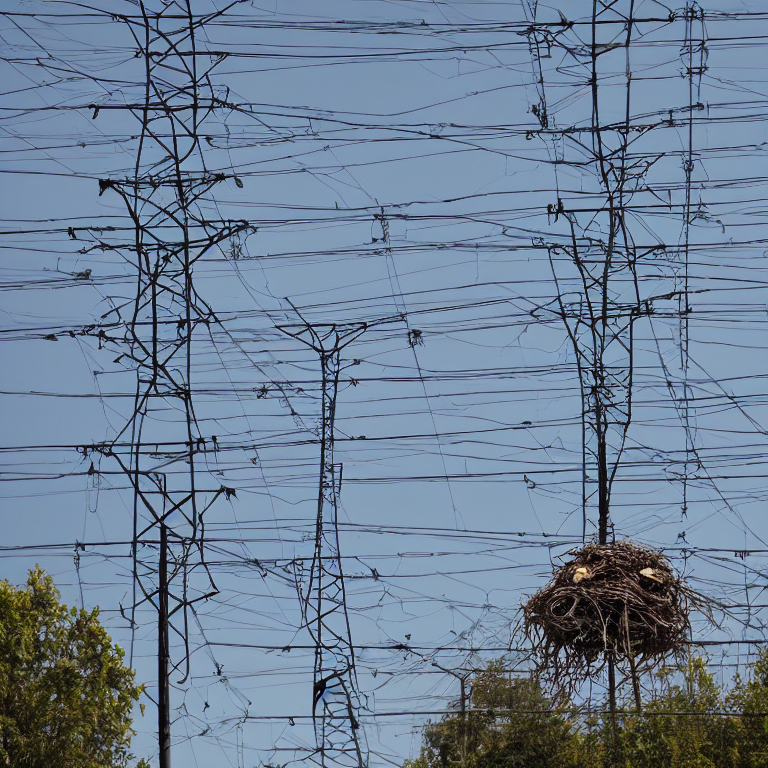nest: (551, 546, 678, 651)
